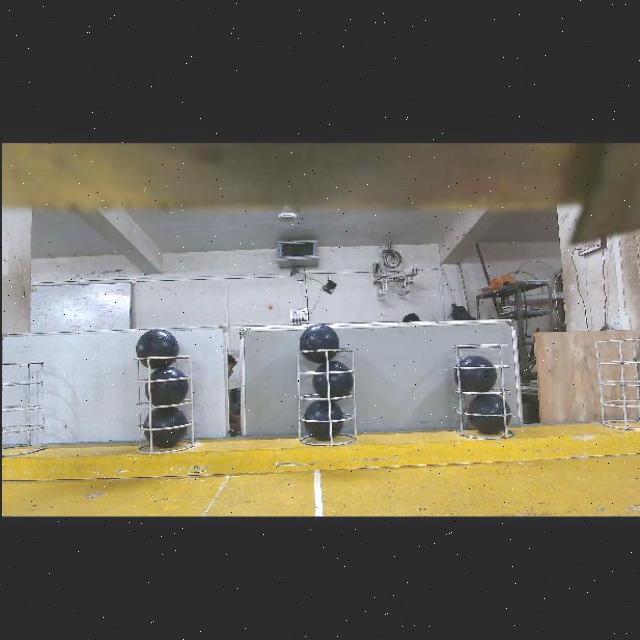P: (143, 406, 186, 447), (135, 327, 176, 368), (467, 394, 509, 433), (144, 366, 186, 404), (452, 355, 495, 391), (303, 400, 342, 439), (299, 323, 337, 362), (312, 359, 352, 396)
S: (122, 356, 192, 452), (453, 339, 513, 439), (293, 348, 352, 448), (0, 354, 48, 451), (602, 332, 640, 432)
